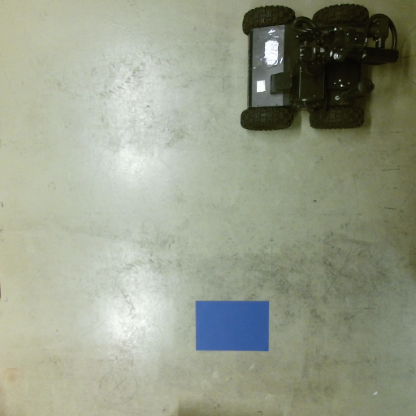Blue: (194, 300, 271, 350)
Jaguar: (235, 5, 403, 134)
